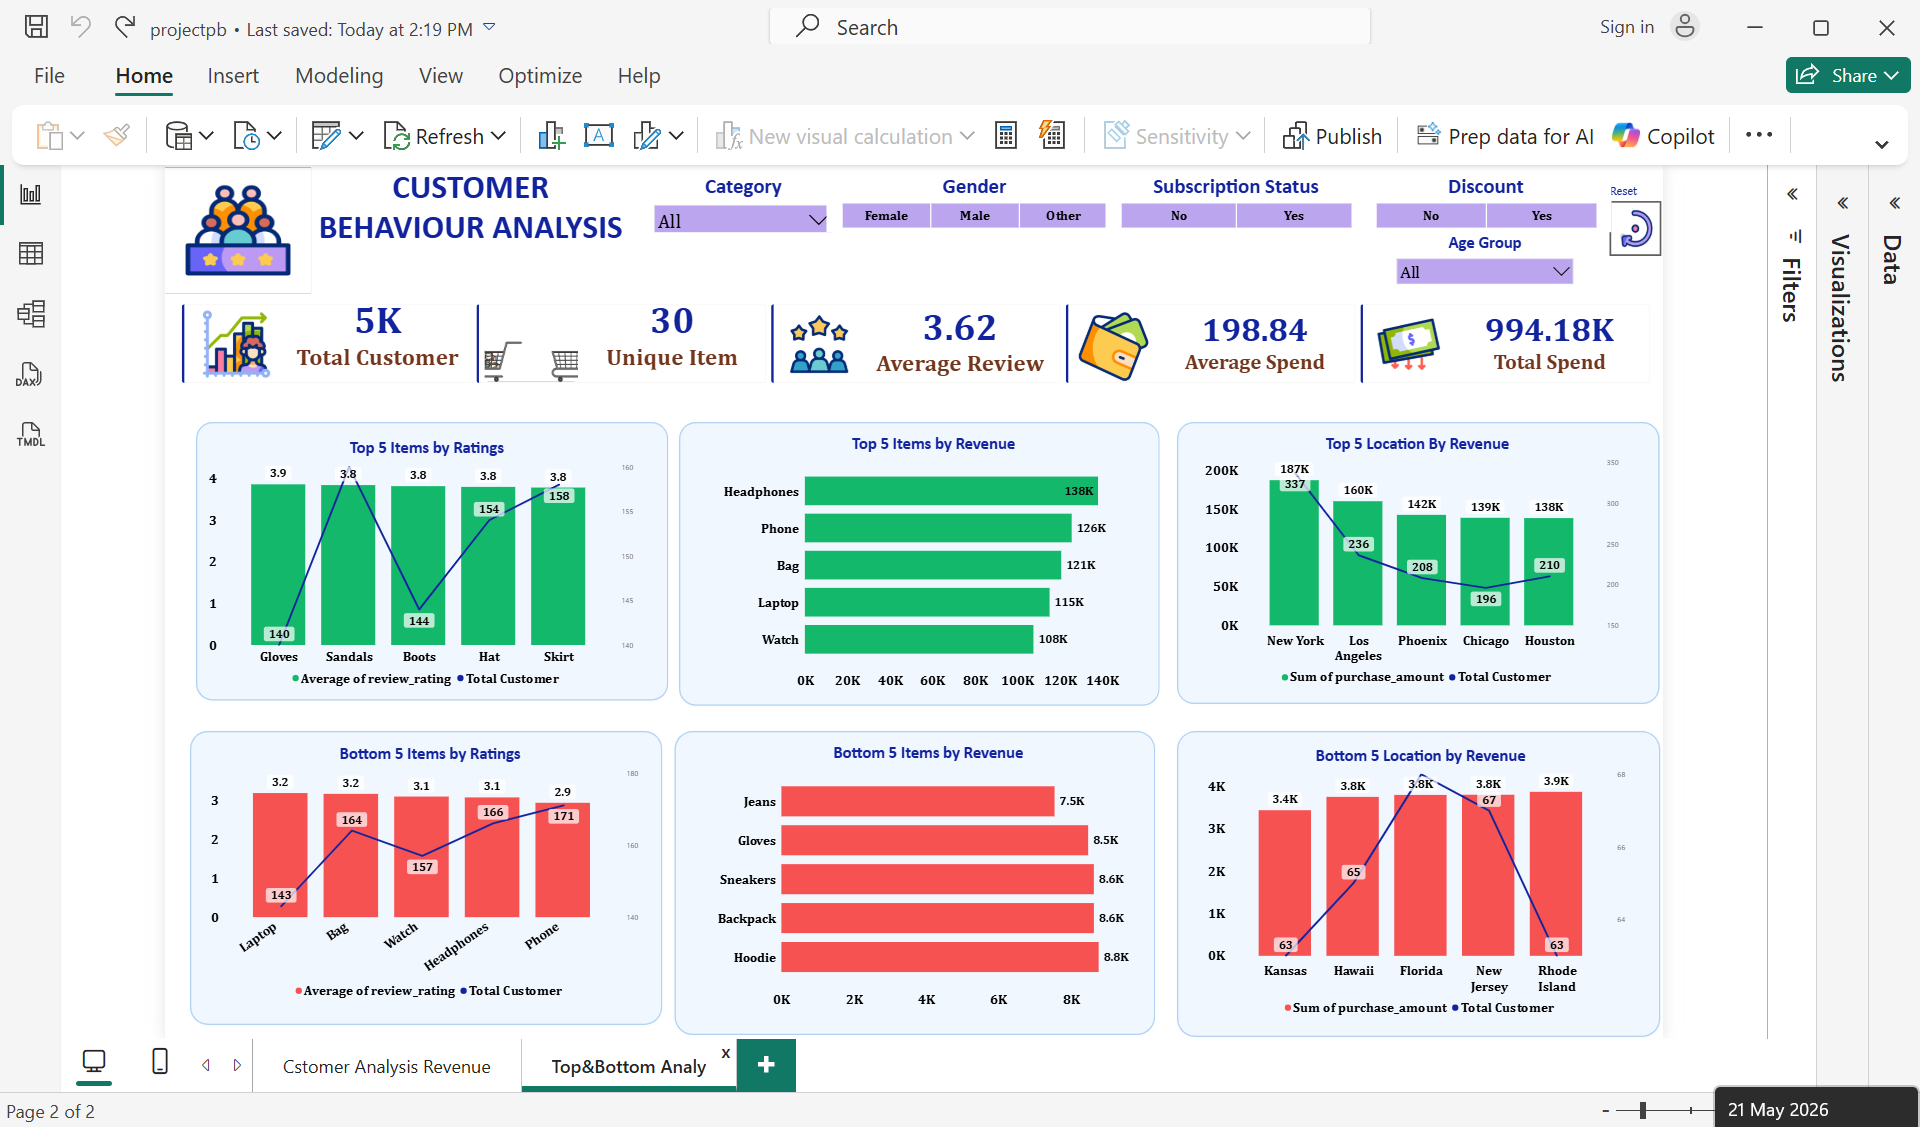

The page's visual inventory and layout, read from the dashboard file:
{"tool":"powerbi","page":{"name":"Top&Bottom Analy","canvas":[2400,1400],"ordinal":1},"visuals":[{"type":"shape","box":[45.5,409.8,764.4,454.3],"z":0,"group":"g5"},{"type":"shape","box":[819.7,409.8,778,462.4],"z":0,"group":"g4"},{"type":"group","id":"g1","title":"Group 1","box":[1617.9,409.8,782.2,460.7],"z":0},{"type":"shape","box":[811.6,905.4,778,495.1],"z":1000,"group":"g3"},{"type":"group","id":"g2","title":"Group 2","box":[1617.9,905.4,782.2,498.2],"z":1000},{"type":"shape","box":[1617.9,409.8,781.1,459.7],"z":2000,"group":"g1"},{"type":"group","id":"g3","title":"Group 4","box":[811.6,905.4,776.8,492.9],"z":2000},{"type":"group","id":"g4","title":"Group 6","box":[819.7,409.8,778,462.4],"z":3000},{"type":"shape","box":[1617.9,905.4,782.2,498.2],"z":3000,"group":"g2"},{"type":"shape","box":[36.9,905.7,764.4,478.8],"z":3000,"group":"g6"},{"type":"group","id":"g5","title":"Group 3","box":[45.5,409.8,766.1,452.7],"z":4000},{"type":"group","id":"g6","title":"Group 5","box":[36.9,905.7,764.4,478.8],"z":4000,"group":"g7"},{"type":"group","id":"g7","title":"Group 7","box":[36.9,905.7,766.6,477],"z":5000},{"type":"lineStackedColumnComboChart","title":"Bottom 5 Items by Ratings","fields":{"Category":["customer_behaviour_analysis.item_purchased"],"Y":["Avg(customer_behaviour_analysis.review_rating)"],"Y2":["customer_behaviour_analysis.Total Customer"]},"box":[67.7,929.9,714.5,419.2],"z":5000,"group":"g7"},{"type":"textbox","box":[233.3,0,513.3,196.7],"z":6000},{"type":"clusteredBarChart","title":"Top 5 Items by Revenue","fields":{"Category":["customer_behaviour_analysis.item_purchased"],"Y":["Sum(customer_behaviour_analysis.purchase_amount)"]},"box":[886.2,432,689.1,416.5],"z":6000,"group":"g4"},{"type":"lineClusteredColumnComboChart","title":"Top 5 Items by Ratings","fields":{"Category":["customer_behaviour_analysis.item_purchased"],"Y":["Avg(customer_behaviour_analysis.review_rating)"],"Y2":["customer_behaviour_analysis.Total Customer"]},"box":[65.7,437.4,708.9,408.4],"z":6001,"group":"g5"},{"type":"actionButton","box":[0,8.2,233.9,201.3],"z":7000},{"type":"slicer","title":"Category","fields":{"Values":["customer_behaviour_analysis.category"]},"box":[774.1,16.1,305.4,93.8],"z":8000},{"type":"barChart","title":"Bottom 5 Items by Revenue","fields":{"Category":["customer_behaviour_analysis.item_purchased"],"Y":["Sum(customer_behaviour_analysis.purchase_amount)"]},"box":[876,928,691.2,432.8],"z":8000,"group":"g3"},{"type":"slicer","title":"Gender","fields":{"Values":["customer_behaviour_analysis.gender"]},"box":[1060.7,16.1,474.1,93.8],"z":9000},{"type":"lineClusteredColumnComboChart","title":"Top 5 Location By Revenue","fields":{"Category":["customer_behaviour_analysis.location"],"Y":["Sum(customer_behaviour_analysis.purchase_amount)"],"Y2":["customer_behaviour_analysis.Total Customer"]},"box":[1660.2,431.9,691.8,414.1],"z":9000,"group":"g1"},{"type":"slicer","title":"Subscription Status","fields":{"Values":["customer_behaviour_analysis.subscription_status"]},"box":[1505.4,16.1,417.9,93.8],"z":10000},{"type":"lineClusteredColumnComboChart","title":"Bottom 5 Location by Revenue","fields":{"Category":["customer_behaviour_analysis.location"],"Y":["Sum(customer_behaviour_analysis.purchase_amount)"],"Y2":["customer_behaviour_analysis.Total Customer"]},"box":[1665.1,930.8,692,443.7],"z":10000,"group":"g2"},{"type":"actionButton","title":"Reset","box":[2314.3,34.8,83,115.2],"z":11000},{"type":"cardVisual","fields":{"Data":["customer_behaviour_analysis.Total Customer","customer_behaviour_analysis.Unique Item","customer_behaviour_analysis.Average Review","customer_behaviour_analysis.Average Spend","customer_behaviour_analysis.Total Spend"]},"box":[10,210,2390,160],"z":12000},{"type":"slicer","title":"Age Group","fields":{"Values":["customer_behaviour_analysis.age (groups)"]},"box":[1963.4,109.8,302.7,85.7],"z":13000},{"type":"slicer","title":"Discount","fields":{"Values":["customer_behaviour_analysis.discount_applied"]},"box":[1915.2,16.1,401.8,93.8],"z":14000}]}

Visuals, with their boxes on the page's 2400x1400 design canvas (x1, y1, x2, y2). These are canvas units, not pixel positions in the 1920x1127 screenshot, which may show the page scaled, cropped or inside an application window:
shape: [46,410,810,864]
shape: [820,410,1598,872]
"Group 1" group: [1618,410,2400,870]
shape: [812,905,1590,1400]
"Group 2" group: [1618,905,2400,1404]
shape: [1618,410,2399,870]
"Group 4" group: [812,905,1588,1398]
"Group 6" group: [820,410,1598,872]
shape: [1618,905,2400,1404]
shape: [37,906,801,1384]
"Group 3" group: [46,410,812,862]
"Group 5" group: [37,906,801,1384]
"Group 7" group: [37,906,804,1383]
"Bottom 5 Items by Ratings" lineStackedColumnComboChart: [68,930,782,1349]
textbox: [233,0,747,197]
"Top 5 Items by Revenue" clusteredBarChart: [886,432,1575,848]
"Top 5 Items by Ratings" lineClusteredColumnComboChart: [66,437,775,846]
actionButton: [0,8,234,210]
"Category" slicer: [774,16,1080,110]
"Bottom 5 Items by Revenue" barChart: [876,928,1567,1361]
"Gender" slicer: [1061,16,1535,110]
"Top 5 Location By Revenue" lineClusteredColumnComboChart: [1660,432,2352,846]
"Subscription Status" slicer: [1505,16,1923,110]
"Bottom 5 Location by Revenue" lineClusteredColumnComboChart: [1665,931,2357,1374]
"Reset" actionButton: [2314,35,2397,150]
cardVisual - customer_behaviour_analysis.Total Customer x customer_behaviour_analysis.Unique Item: [10,210,2400,370]
"Age Group" slicer: [1963,110,2266,196]
"Discount" slicer: [1915,16,2317,110]
